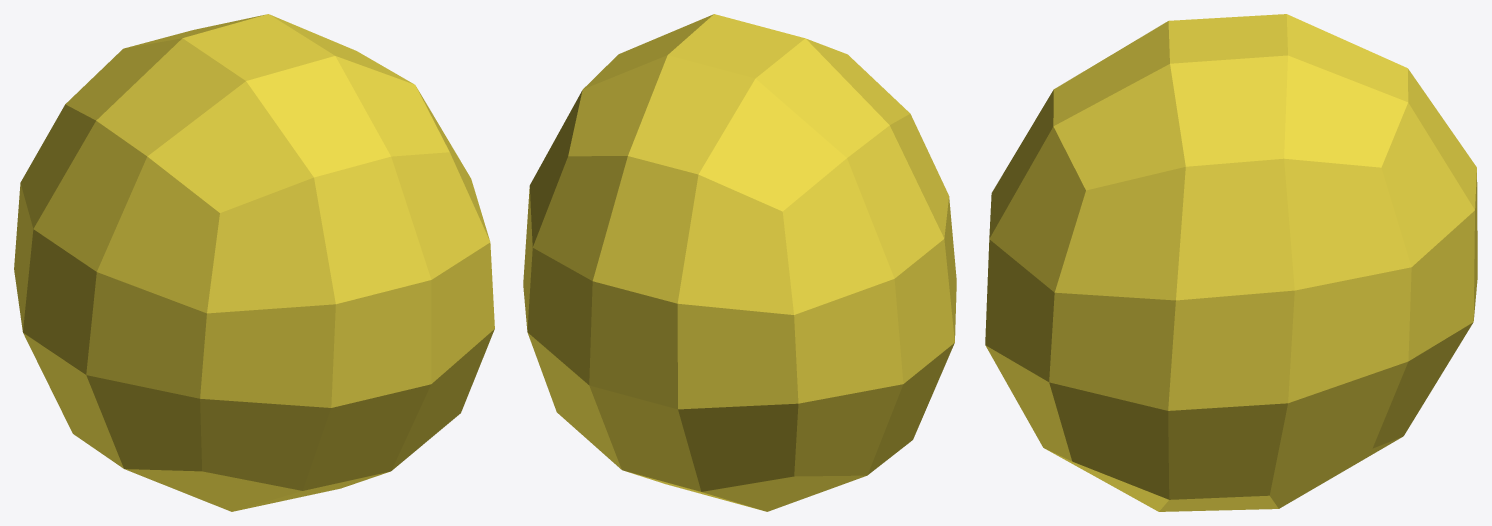
Rendered from maracuja.glb.
The picture shows the model from 3 angles, left to right: view 1: azimuth 30°, elevation 25°; view 2: azimuth 150°, elevation 25°; view 3: azimuth 270°, elevation 25°; orthographic projection. The views are drawn at different scales.
Parts seen in each view (by area): view 1: Maracuja; view 2: Maracuja; view 3: Maracuja.
Boxes of the visible parts, left/top/right/bottom form: Maracuja: left=14, top=14, right=494, bottom=511; Maracuja: left=523, top=14, right=956, bottom=511; Maracuja: left=985, top=14, right=1477, bottom=511.
Bounding box in the file's own units: 0.8309 × 0.8669 × 0.8579.
